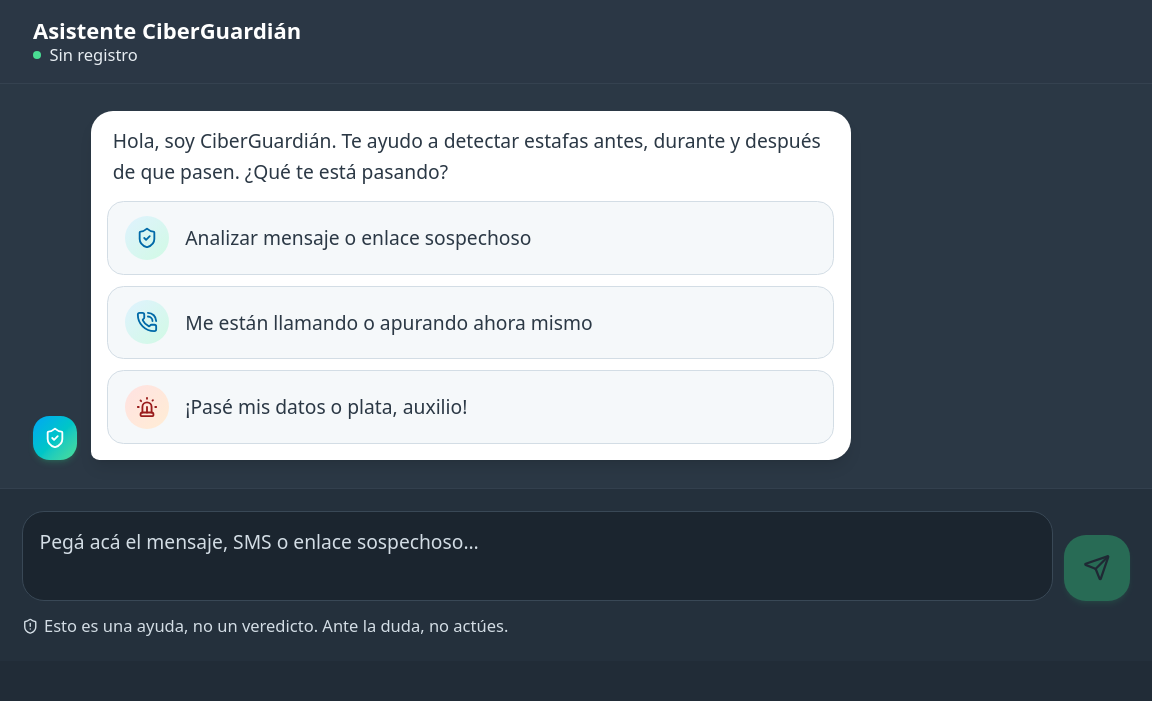
Test: ChatAssistant › en Modo Abuelo muestra el veredicto simple en lugar del semáforo
Type "Banco Formosa: pasame el token urgente" into the text box named "Mensaje sospechoso" at (538, 556), box [22,511,1053,601]
Then press Enter
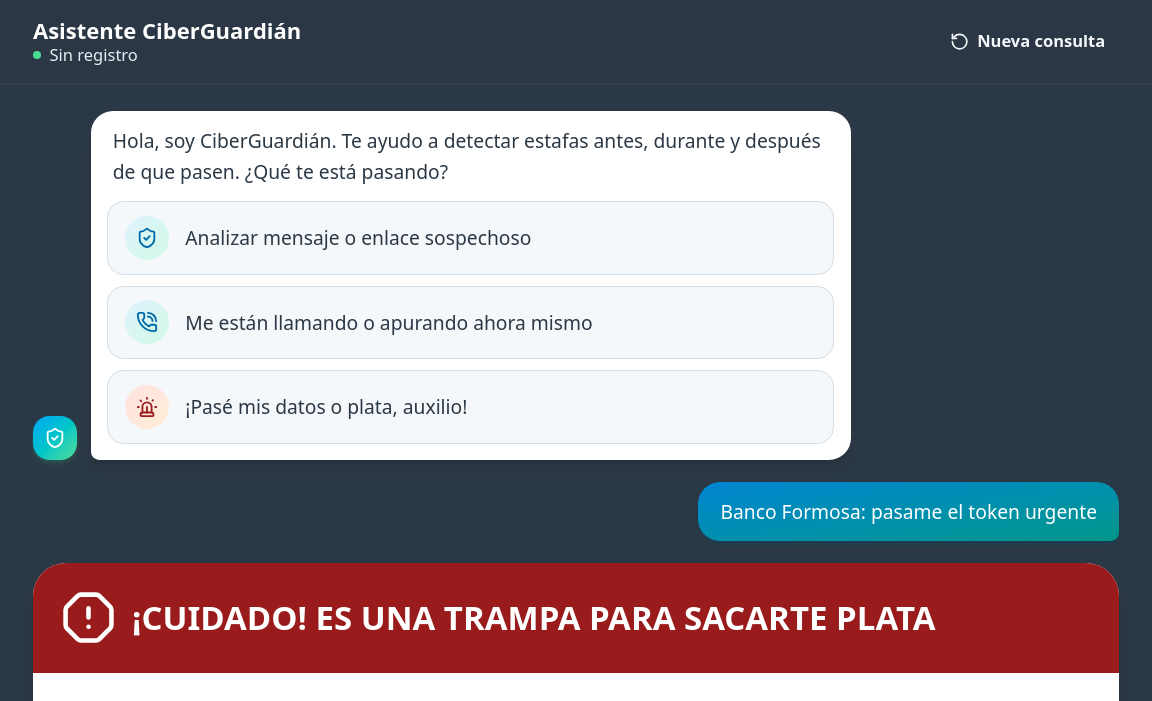
Expected: the text "¡Cuidado! Es una trampa para sacarte plata" is shown, [132,597,936,638]
